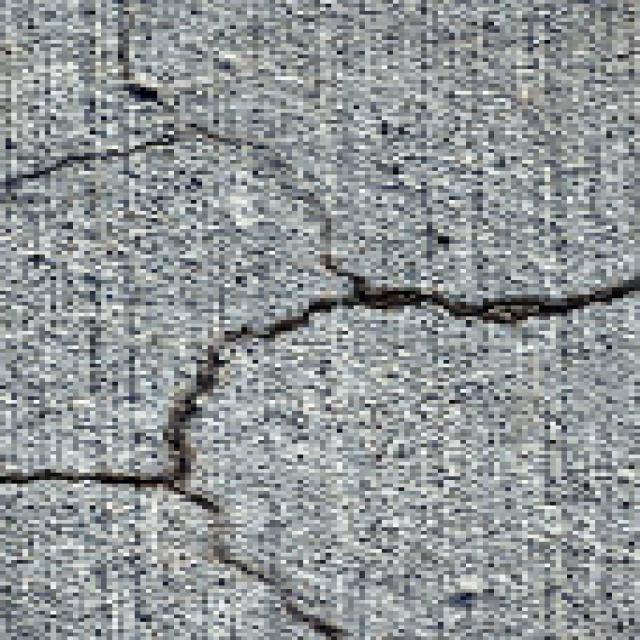branched cracks: (0, 22, 267, 196)
